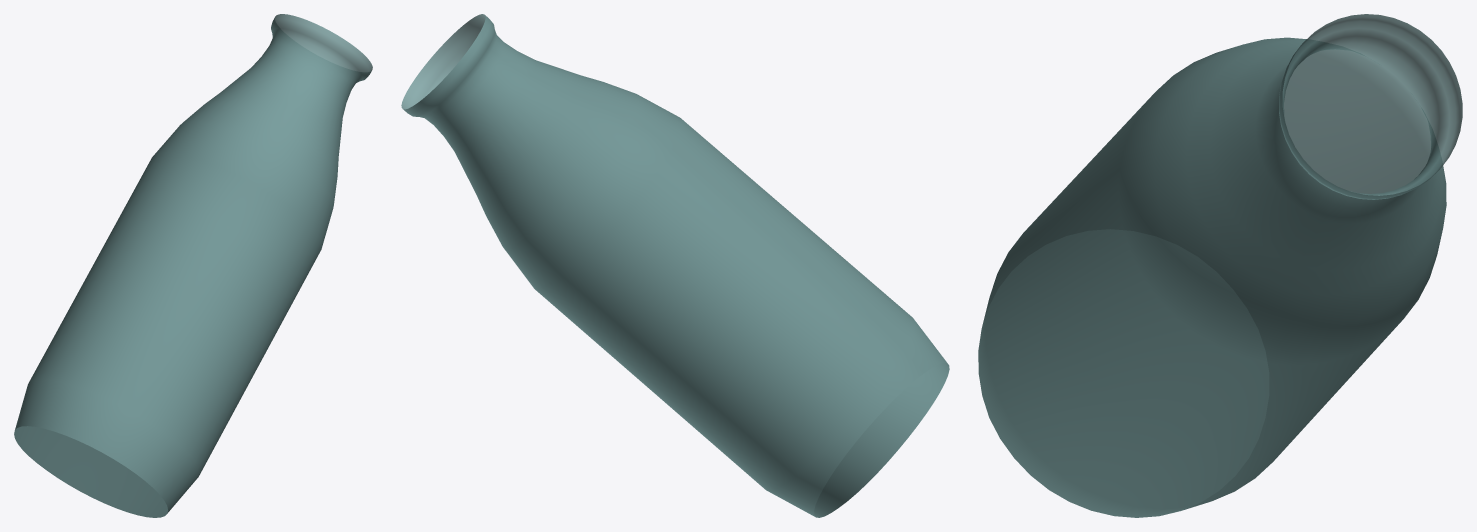
Rendered from glass2.fbx.
3 views of the same model, side by side, from view 1: azimuth 30°, elevation 25°; view 2: azimuth 150°, elevation 25°; view 3: azimuth 270°, elevation 25° (orthographic). The views are drawn at different scales.
Visible parts, largest first — view 1: Bottle4; view 2: Bottle4; view 3: Bottle4.
Boxes of the visible parts, bbox=[...] form: Bottle4: bbox=[14, 14, 372, 517]; Bottle4: bbox=[401, 14, 949, 517]; Bottle4: bbox=[978, 14, 1462, 517].
Bounding box in the file's own units: 24.48 × 23.76 × 15.
